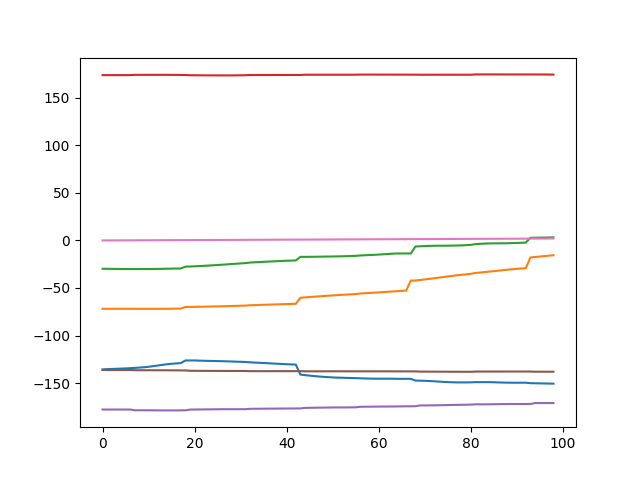Too_Slow_Down: (3, 2, 640, 480)
